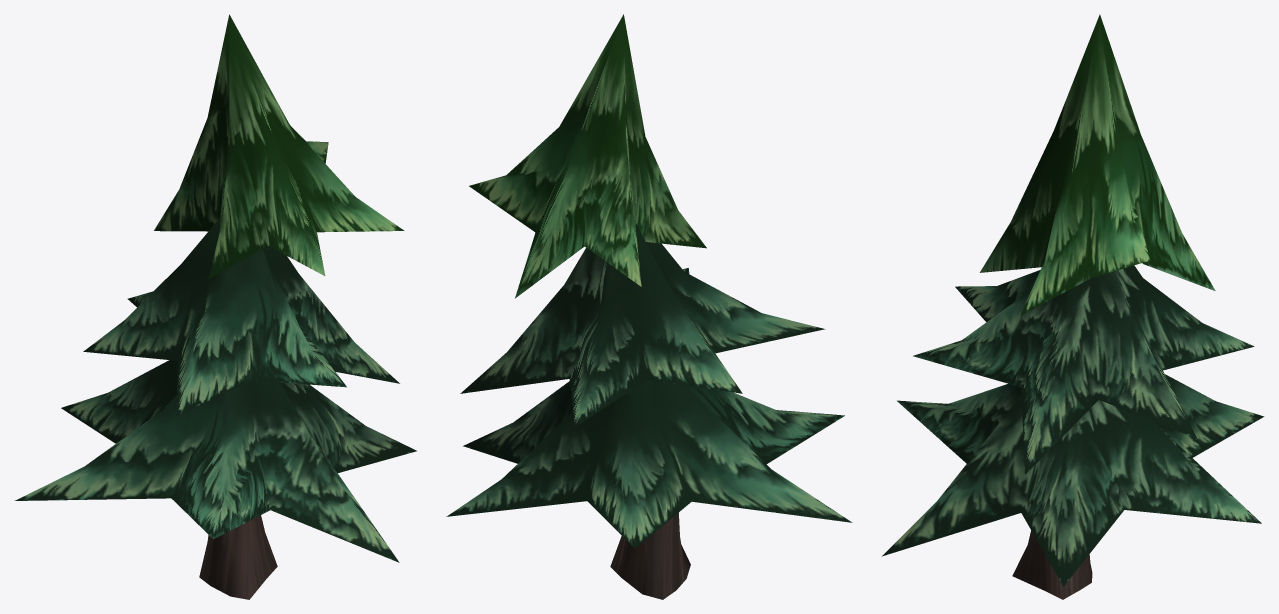
The model's file is Nspruce_1.fbx.
3 renders of one model, left to right at view 1: azimuth 30°, elevation 25°; view 2: azimuth 150°, elevation 25°; view 3: azimuth 270°, elevation 25°, orthographic. The views are drawn at different scales.
Visible parts, largest first — view 1: Nspruce_1; view 2: Nspruce_1; view 3: Nspruce_1.
Part boxes in pixels (bbox=[...]): Nspruce_1: bbox=[15, 14, 416, 599]; Nspruce_1: bbox=[446, 14, 852, 599]; Nspruce_1: bbox=[882, 14, 1264, 599].
Size of the model in its own units: 105 by 143 by 85.94.
